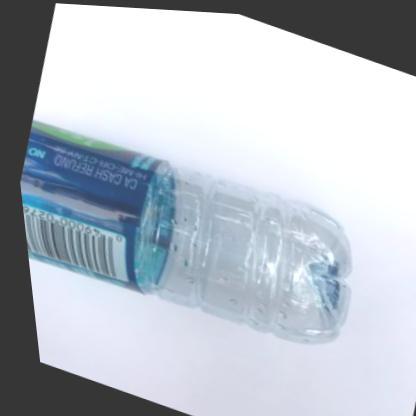Plastic: (15, 120, 345, 341)
